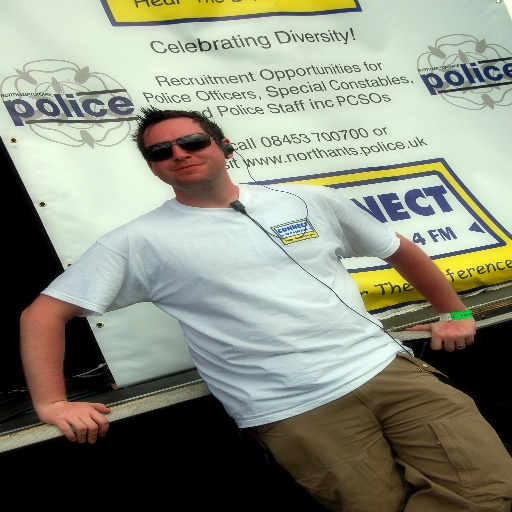hand: (36, 399, 114, 447), (403, 318, 480, 353)
